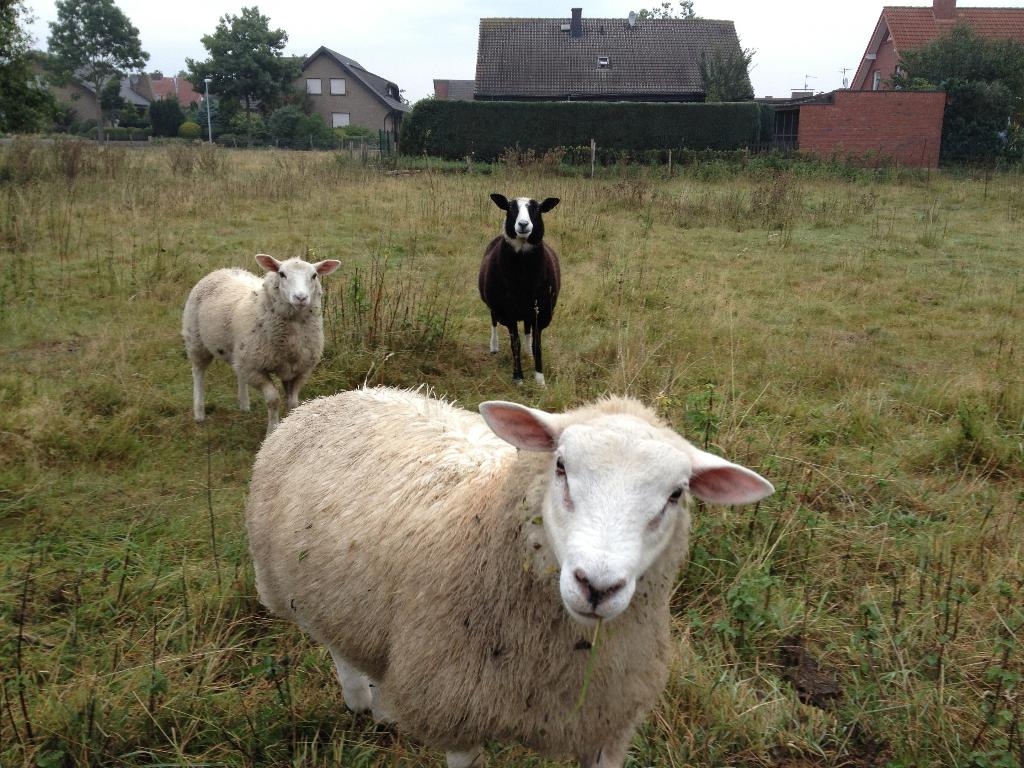sheep: (475, 195, 563, 387)
